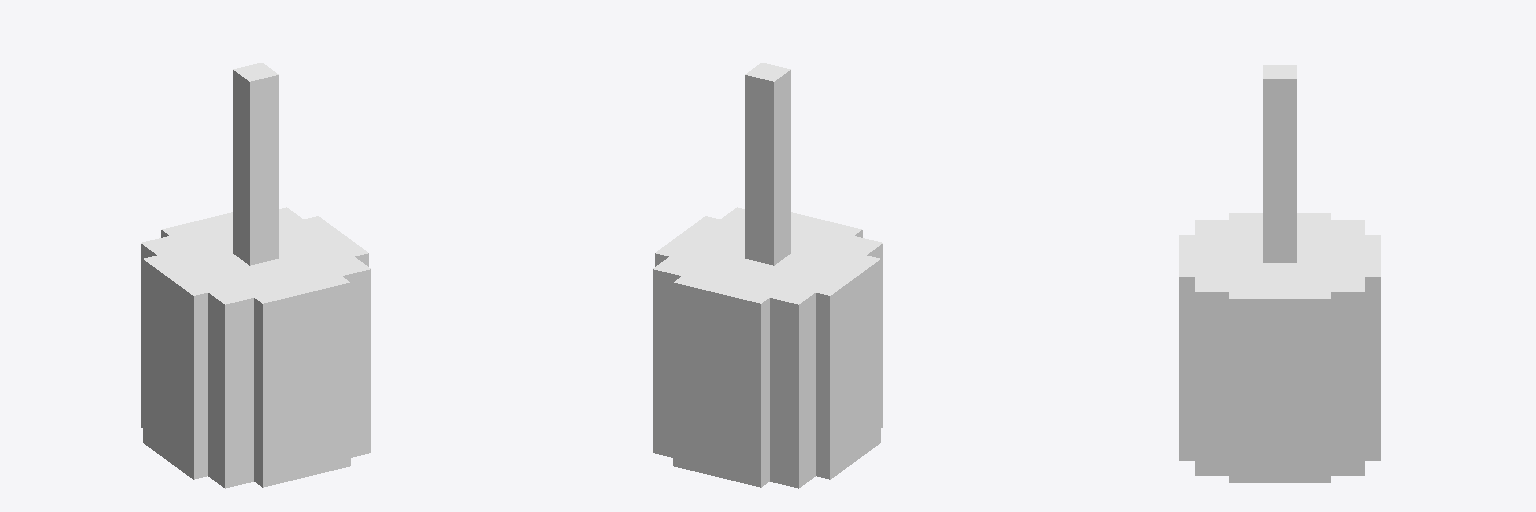
File: butterchurn.obj
The picture shows the model from 3 angles: view 1: azimuth 30°, elevation 25°; view 2: azimuth 150°, elevation 25°; view 3: azimuth 270°, elevation 25°; orthographic projection.
Visible parts, largest first — view 1: g0; view 2: g0; view 3: g0.
Boxes of the visible parts, <box> form: g0: <box>141,63,370,488</box>; g0: <box>653,63,882,488</box>; g0: <box>1179,65,1380,482</box>.
Size of the model in its own units: 0.4956 by 0.9912 by 0.4956.